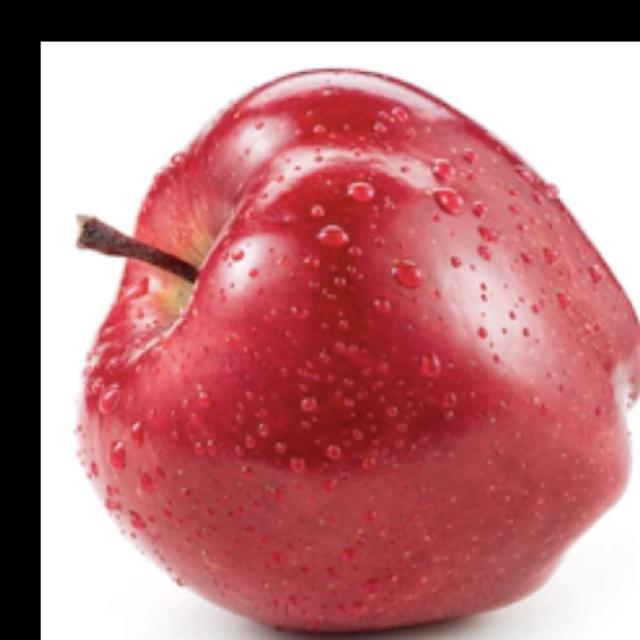Apple: (72, 66, 639, 636)
